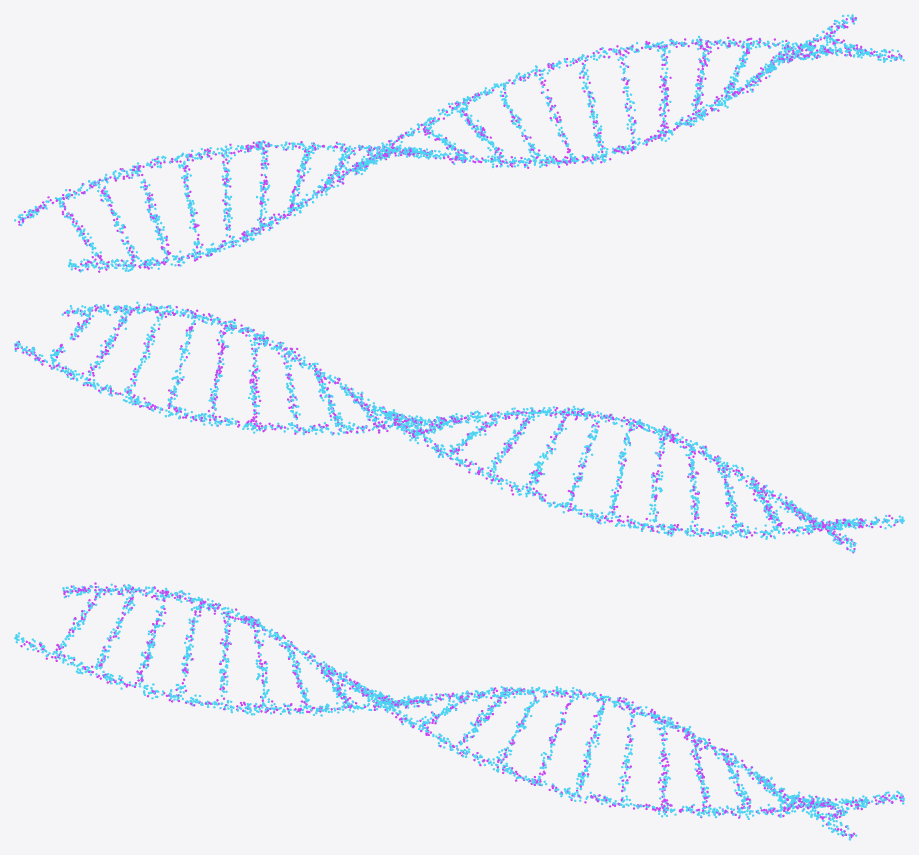
The model's file is dna.glb.
3 views of the same model, one above another, from view 1: azimuth 30°, elevation 25°; view 2: azimuth 150°, elevation 25°; view 3: azimuth 330°, elevation 25° (orthographic).
Visible parts, largest first — view 1: Sphere.3514; view 2: Sphere.3514; view 3: Sphere.3514.
Part boxes in pixels (x1,y1,x2,y2): Sphere.3514: (14, 14, 904, 272); Sphere.3514: (14, 301, 904, 553); Sphere.3514: (14, 582, 904, 840).
Bounding box in the file's own units: 0.8733 × 0.1023 × 0.1024.
